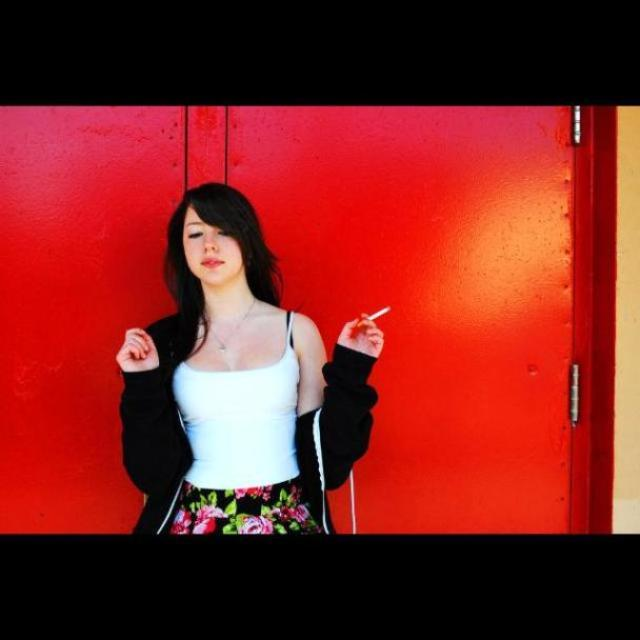rokok: (358, 298, 392, 338)
